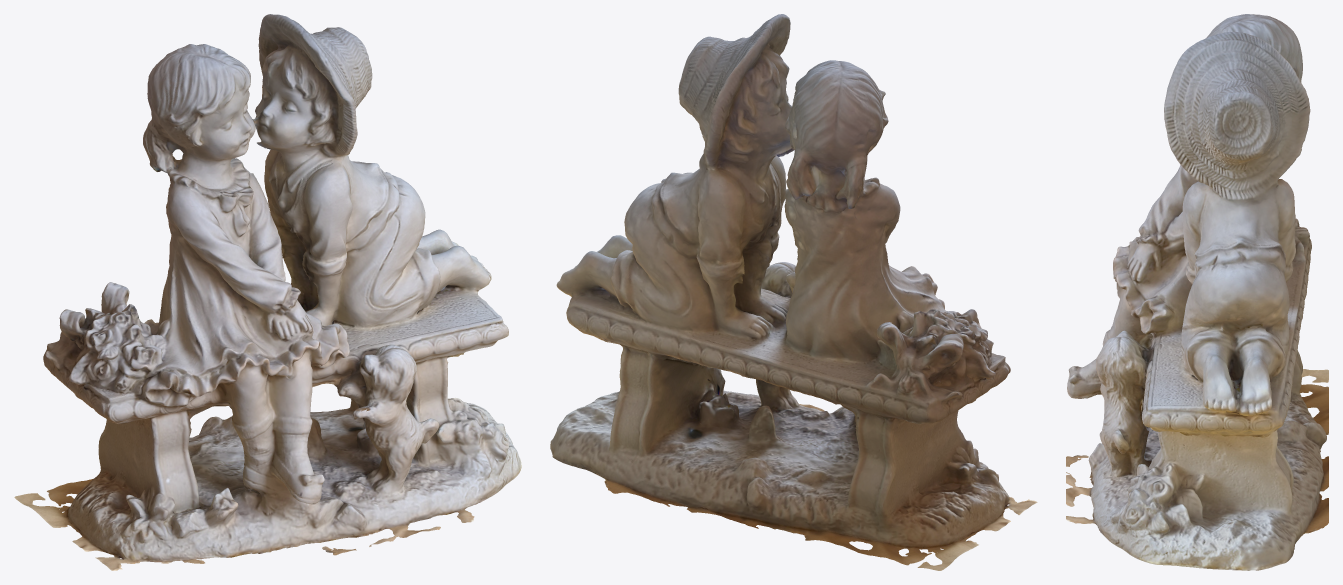
Rendered from boy_girl_dog..glb.
3 renders of one model, left to right at view 1: azimuth 30°, elevation 25°; view 2: azimuth 150°, elevation 25°; view 3: azimuth 270°, elevation 25°, orthographic. The views are drawn at different scales.
Visible parts, largest first — view 1: Object_5, Object_4; view 2: Object_4, Object_5; view 3: Object_4, Object_5.
Boxes of the visible parts, box(x1,y1,x2,y2) form: Object_5: box(14, 16, 508, 570); Object_4: box(43, 14, 521, 528); Object_4: box(550, 14, 1005, 528); Object_5: box(647, 33, 1037, 570); Object_4: box(1089, 32, 1328, 570); Object_5: box(1066, 14, 1328, 545).
Size of the model in its own units: 0.3088 by 0.3193 by 0.1719.
1 material, 1 textured.
